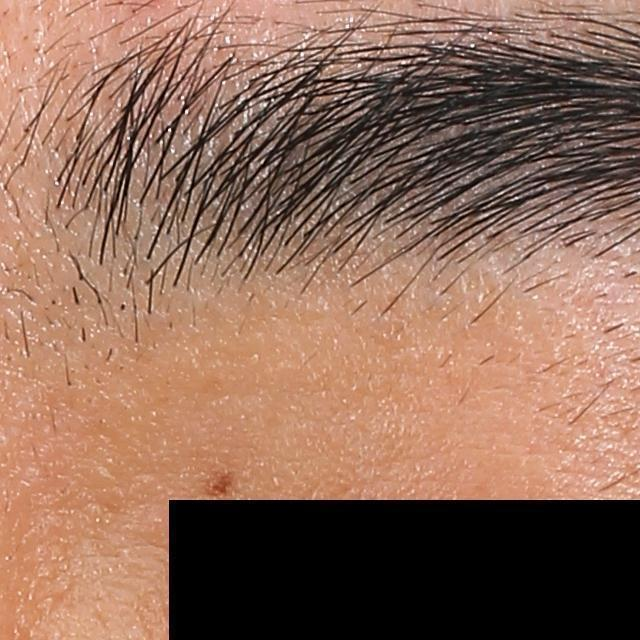nevus: (200, 465, 245, 501)
